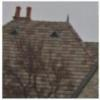chimneys: (13, 4, 22, 19), (25, 6, 32, 20)
